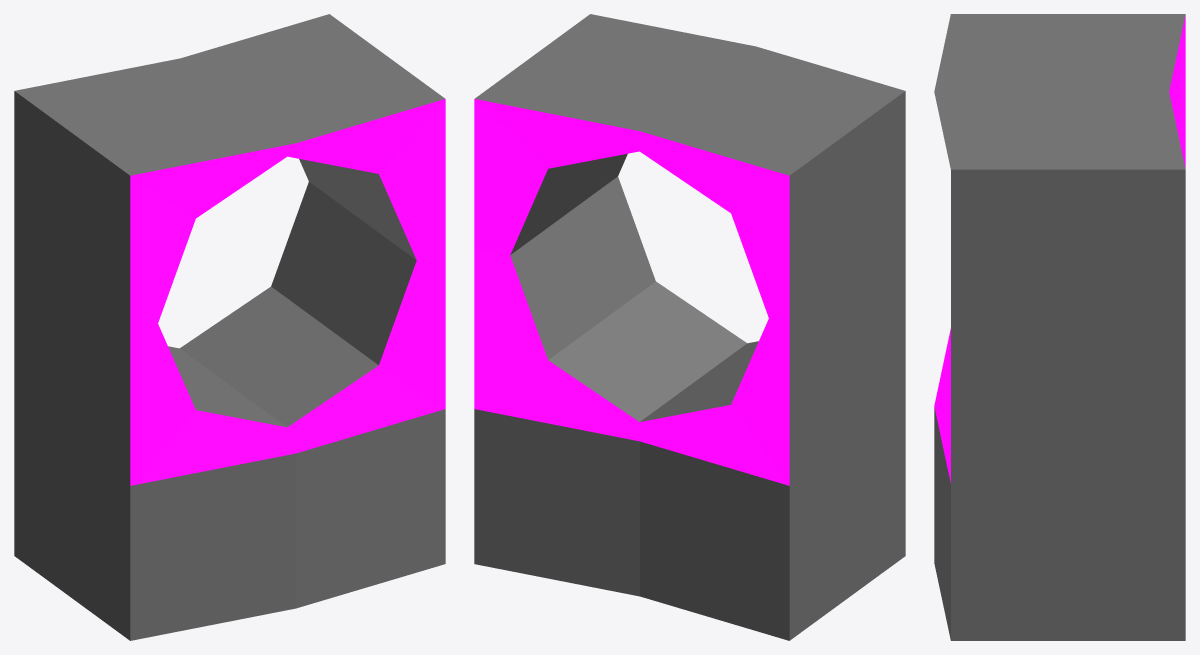
Rendered from RippleDefender fire 3.fbx.
3 renders of one model, left to right at view 1: azimuth 30°, elevation 25°; view 2: azimuth 150°, elevation 25°; view 3: azimuth 270°, elevation 25°, orthographic.
Visible parts, largest first — view 1: RippleDefender fire 3; view 2: RippleDefender fire 3; view 3: RippleDefender fire 3.
Boxes of the visible parts, bbox=[...] form: RippleDefender fire 3: bbox=[14, 14, 445, 640]; RippleDefender fire 3: bbox=[474, 14, 905, 640]; RippleDefender fire 3: bbox=[934, 14, 1185, 640].
Size of the model in its own units: 5.99 by 8.45 by 4.09.
